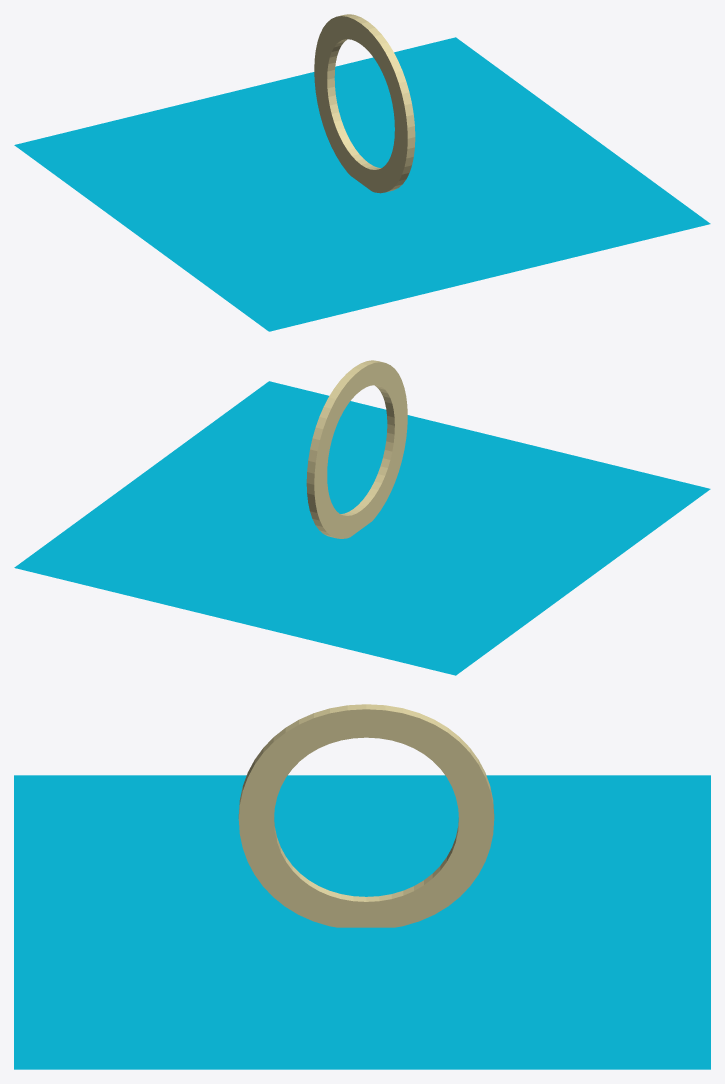
Rendered from office_placeholder.glb.
3 renders of one model, top to bottom at view 1: azimuth 30°, elevation 25°; view 2: azimuth 150°, elevation 25°; view 3: azimuth 270°, elevation 25°, orthographic. The views are drawn at different scales.
Visible parts, largest first — view 1: Plane; view 2: Plane; view 3: Plane.
Boxes of the visible parts, left/top/right/bottom form: Plane: left=14, top=14, right=710, bottom=331; Plane: left=14, top=360, right=710, bottom=675; Plane: left=14, top=704, right=710, bottom=1069.
Bounding box in the file's own units: 20 × 7 × 20.
